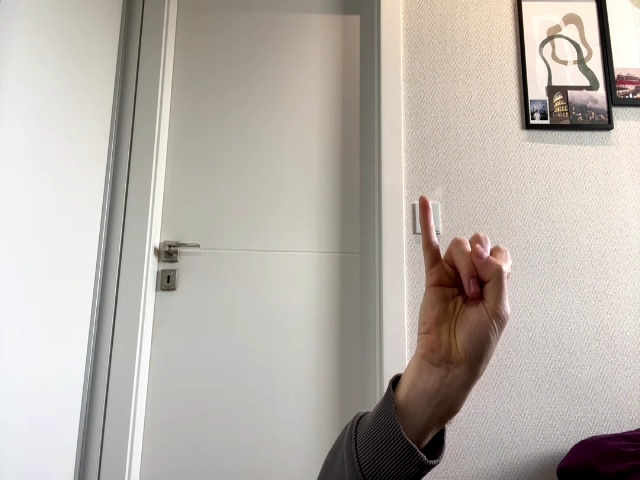I: (419, 196, 511, 370)
